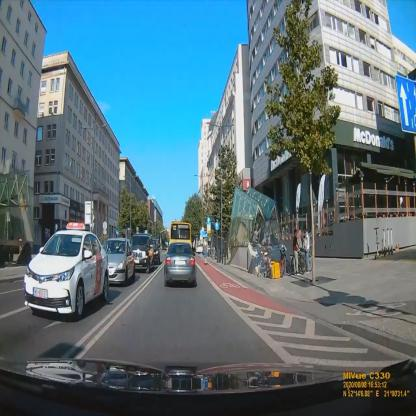cars: (24, 231, 109, 317), (102, 238, 135, 284), (165, 242, 196, 287), (131, 234, 155, 271)
